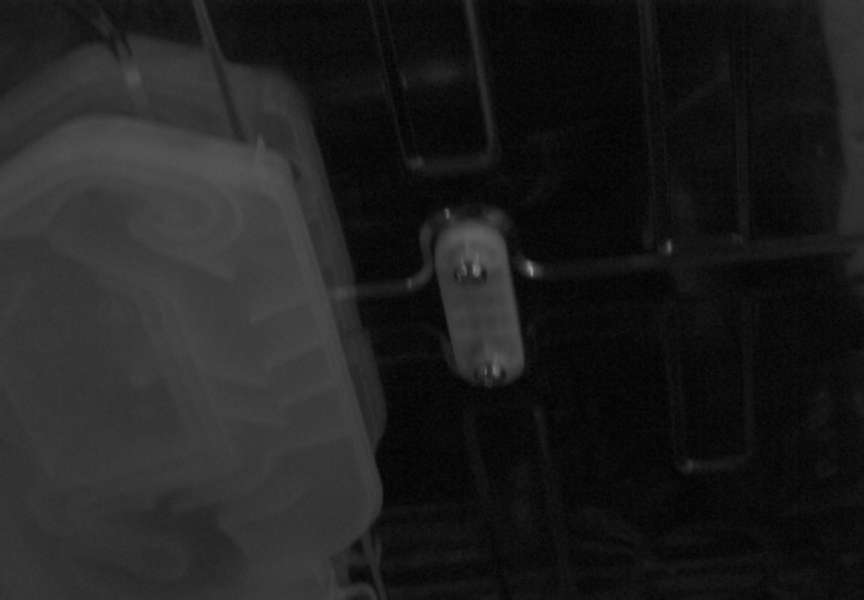screw: (474, 361, 506, 388), (454, 258, 487, 284)
